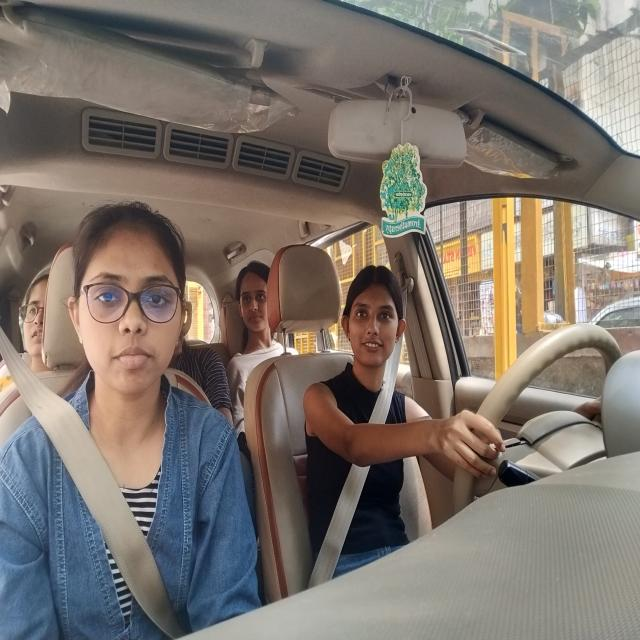person: (79, 222, 189, 394), (345, 275, 399, 364), (234, 268, 272, 336), (27, 274, 55, 356)
